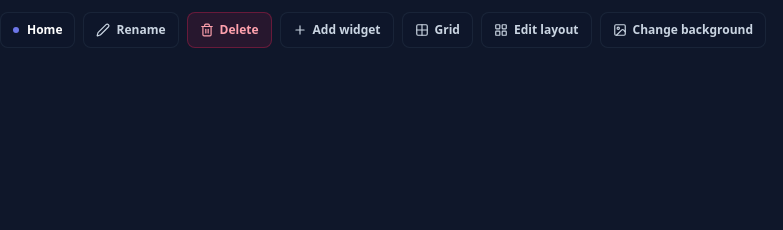
Scenario: DashboardHeader grid size › opens with the dashboard grid size and applies new dimensions
Step 1. Click the button "Grid" → click(437, 30), box [402,12,473,48]
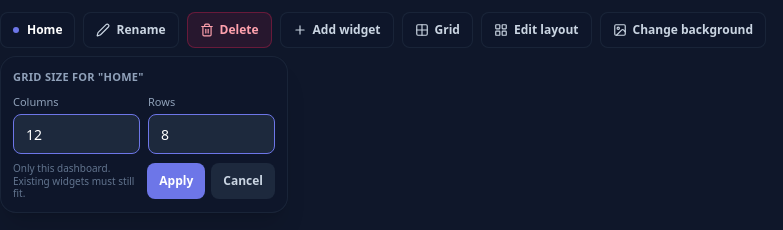
Expected: the number field labelled "Columns" holds "12"
Expected: the number field labelled "Rows" holds "8", [148,114,275,154]
Step 2. Replace the text in the number field labelled "Columns" with "6" → (76, 134), box [13,114,140,154]
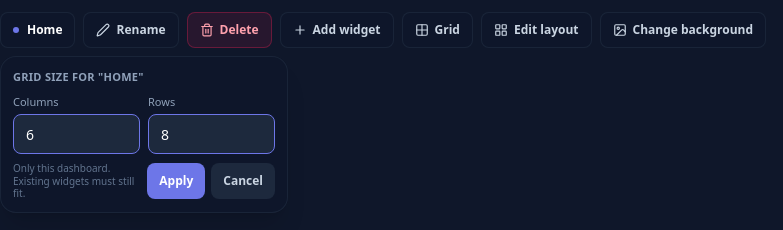
Step 3. Replace the text in the number field labelled "Rows" with "4" → (212, 134), box [148,114,275,154]
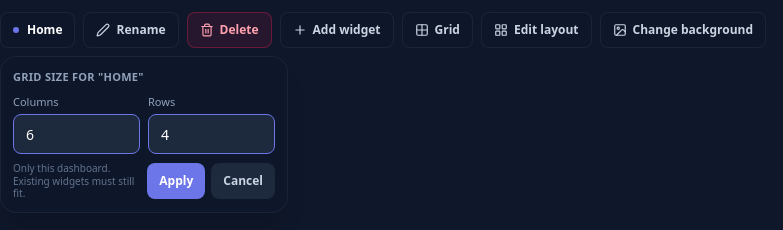
Step 4. Click the button "Apply" → click(176, 181), box [147,163,205,199]
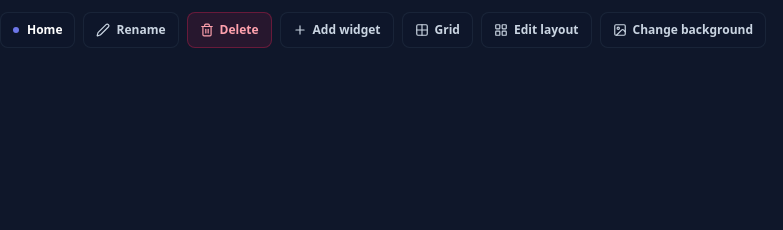
Expected: the text labelled "Columns" is gone
